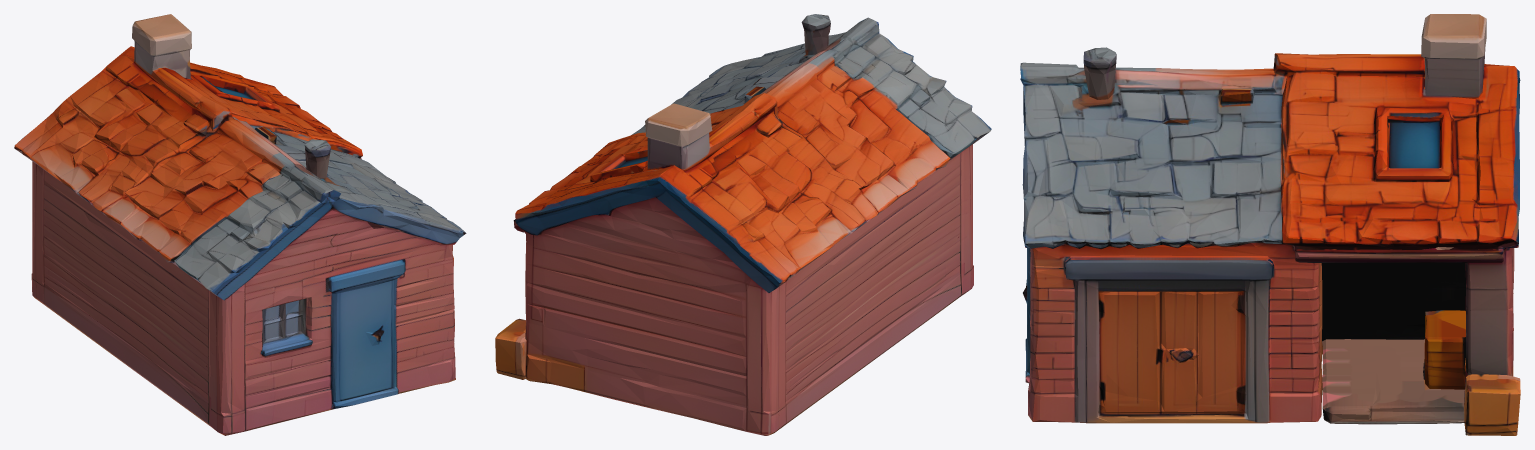
3 views of the same model, side by side, from view 1: azimuth 30°, elevation 25°; view 2: azimuth 150°, elevation 25°; view 3: azimuth 270°, elevation 25° (orthographic). The views are drawn at different scales.
Parts seen in each view (by area): view 1: 0_1234_50_5.0_256_8000.obj; view 2: 0_1234_50_5.0_256_8000.obj; view 3: 0_1234_50_5.0_256_8000.obj.
Part boxes in pixels (x1,y1,x2,y2): 0_1234_50_5.0_256_8000.obj: (14, 14, 466, 435); 0_1234_50_5.0_256_8000.obj: (495, 14, 991, 435); 0_1234_50_5.0_256_8000.obj: (1020, 14, 1520, 435).
Size of the model in its own units: 1.55 by 1.41 by 1.97.
Materials: 1 (1 with a texture image).
